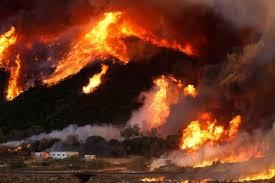fire: (178, 109, 243, 153), (143, 73, 196, 125), (0, 25, 23, 98)
